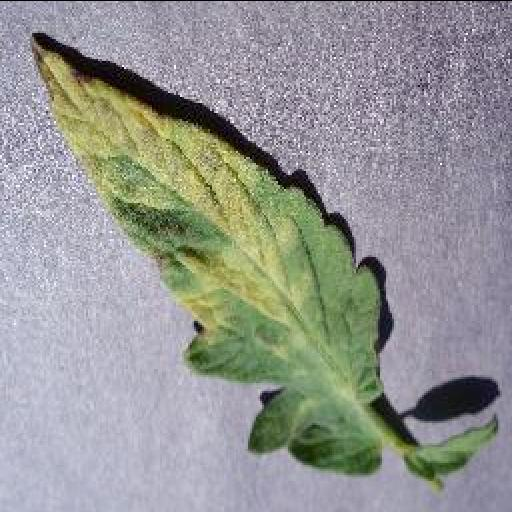disease_tomato: (30, 38, 390, 476)
